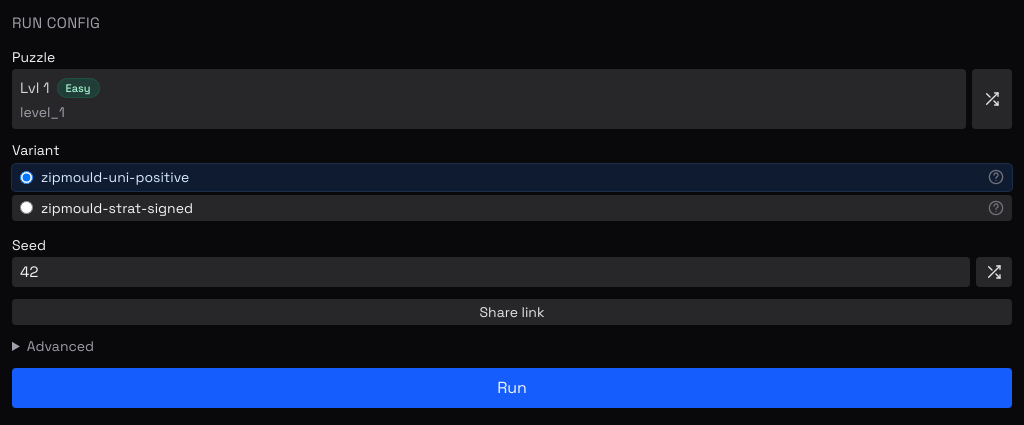
Scenario: ConfigPanel › shows descriptions for each algorithm variant
Check: the text "Single shared pheromone field" is not shown
Focus the button named "zipmould-uni-positive description" at (996, 177), box [988,169,1004,185]
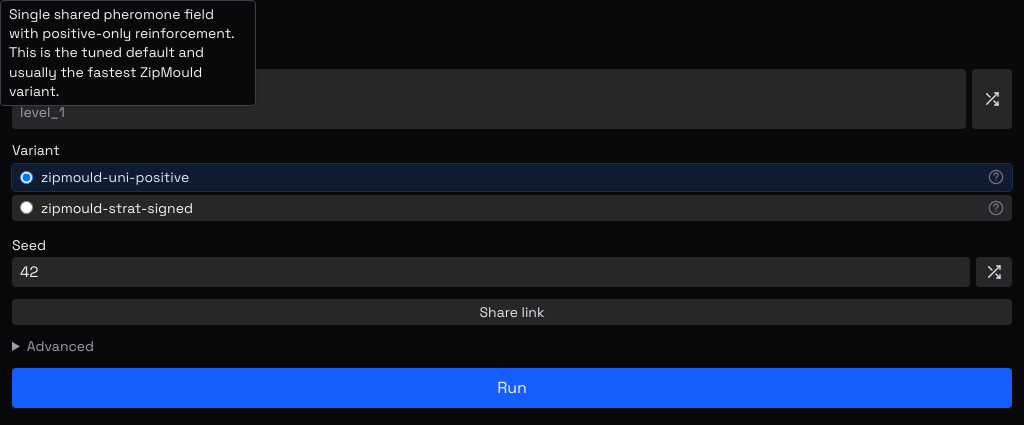
Check: the text "Single shared pheromone field" is shown, box [9,5,235,100]
Focus the button named "zipmould-strat-signed description" at (996, 208), box [988,200,1004,216]
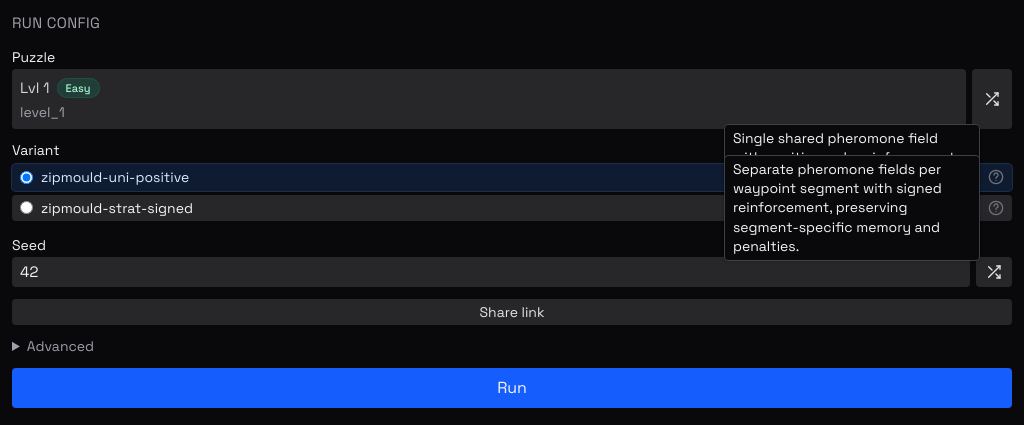
Check: the text "Separate pheromone fields per waypoint segment" is shown, box [733,160,942,255]
